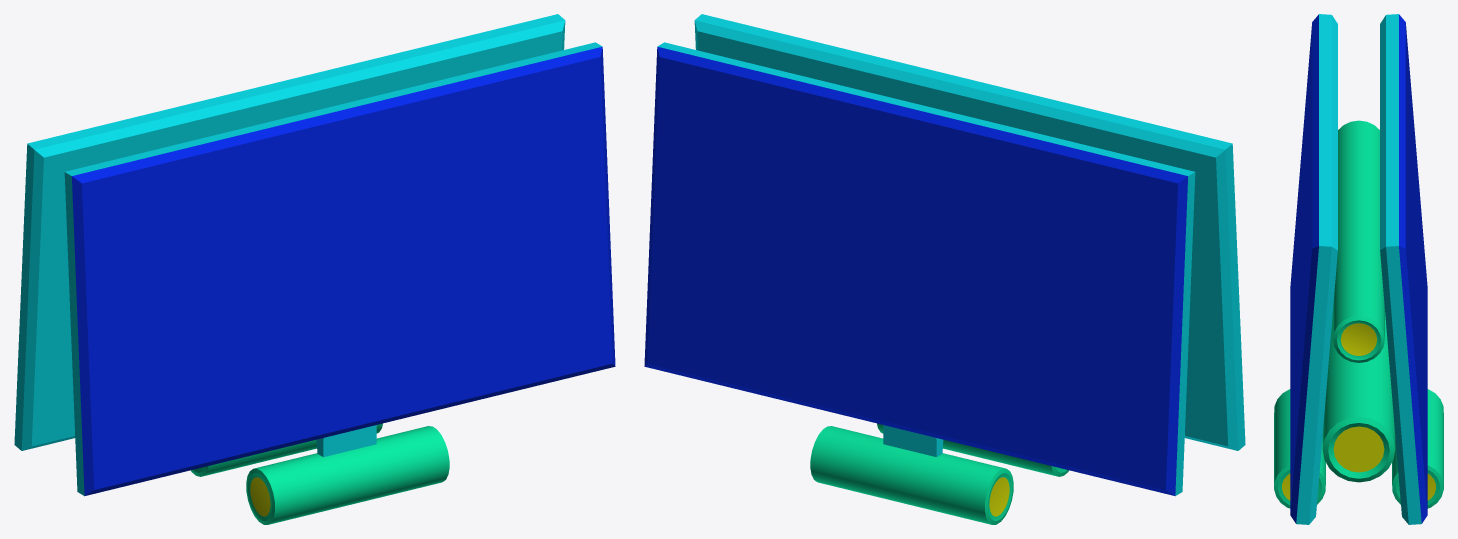
File: Television.fbx
3 views of the same model, side by side, from view 1: azimuth 30°, elevation 25°; view 2: azimuth 150°, elevation 25°; view 3: azimuth 270°, elevation 25° (orthographic). The views are drawn at different scales.
Parts seen in each view (by area): view 1: pCube2; view 2: pCube2; view 3: pCube2, pCylinder1, pCylinder2.
Boxes of the visible parts, x1=… form: pCube2: x1=14, y1=14, x2=615, y2=524; pCube2: x1=644, y1=14, x2=1245, y2=524; pCube2: x1=1274, y1=14, x2=1443, y2=524; pCylinder1: x1=1333, y1=120, x2=1384, y2=362; pCylinder2: x1=1322, y1=312, x2=1395, y2=482.
Bounding box in the file's own units: 4.41 × 3.03 × 1.36.
